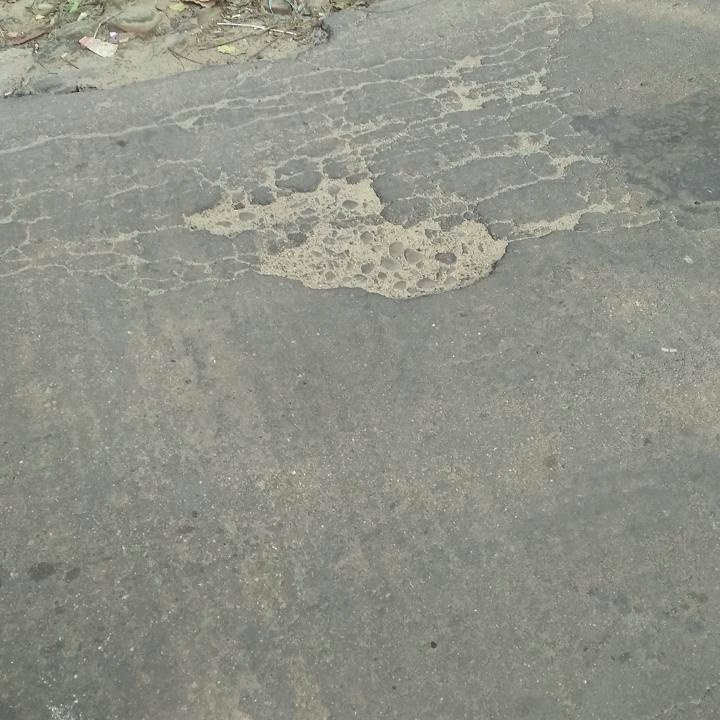pothole: (174, 170, 511, 300)
